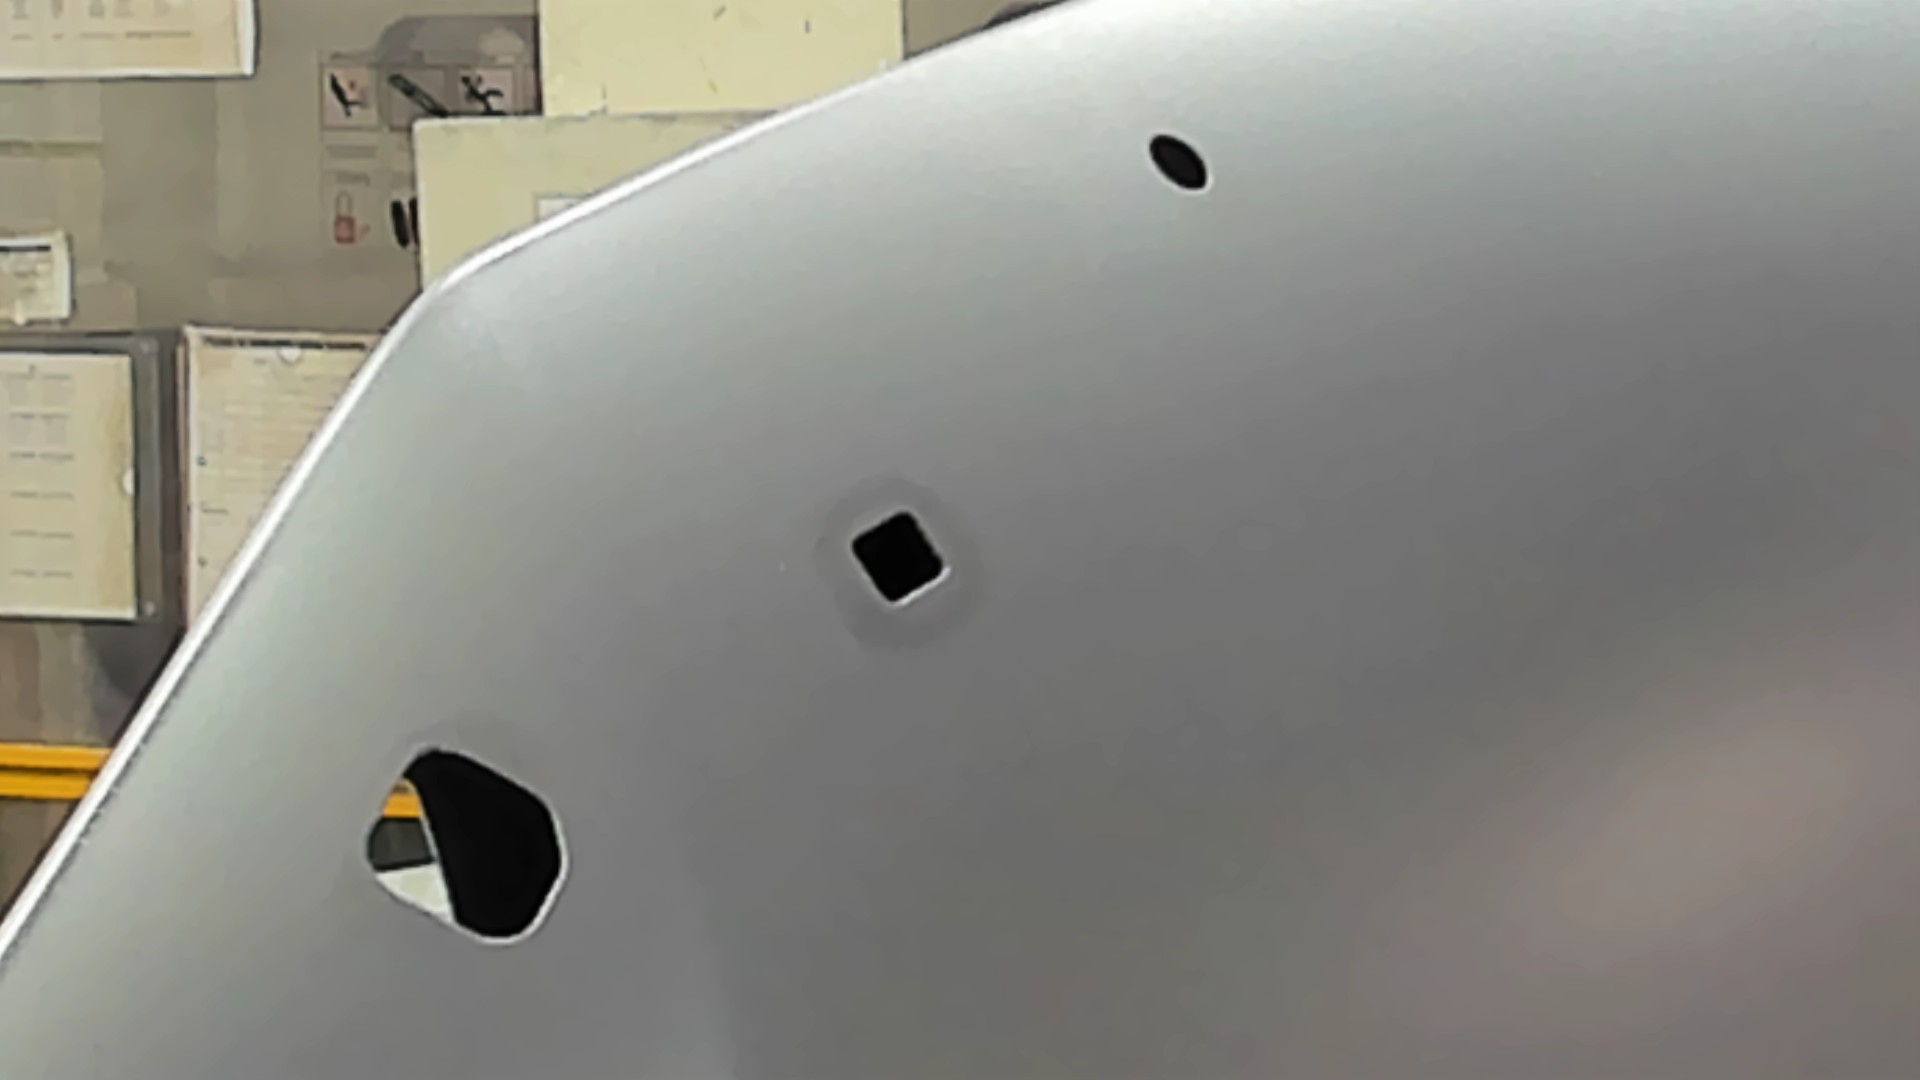chico: (1146, 128, 1215, 196)
grande: (361, 742, 571, 947)
mediano: (848, 505, 951, 608)
